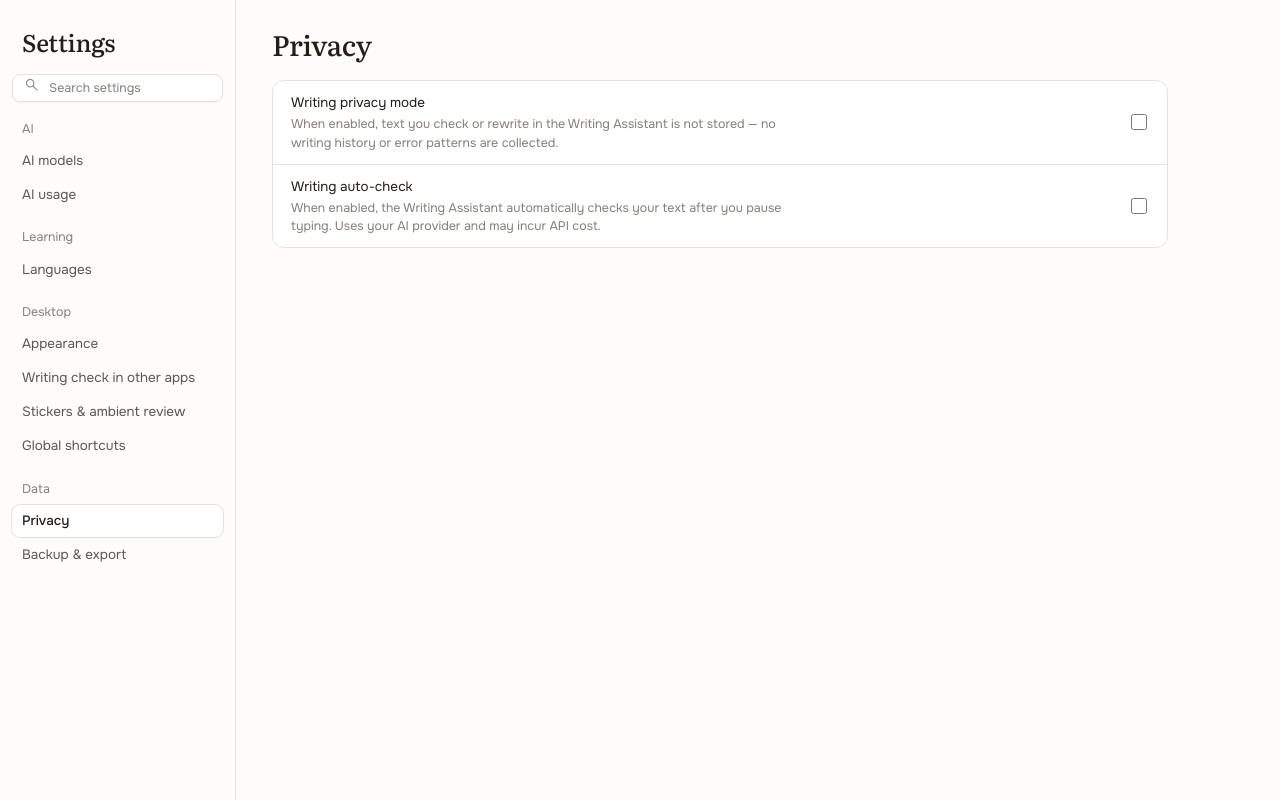
SettingsPage › saves a change as soon as it is made and says so
Click the checkbox labelled "Writing privacy mode".
click(1139, 122)  # box [1131, 114, 1147, 130]
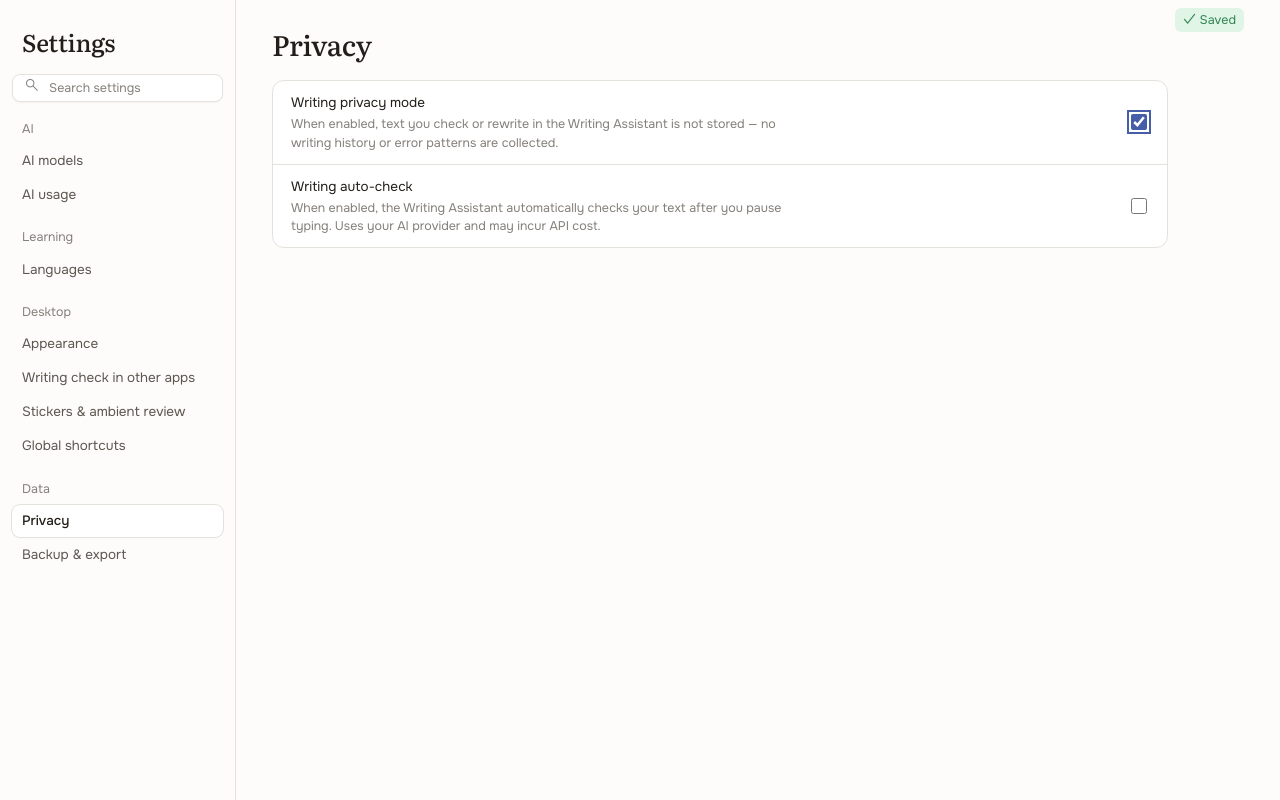
expect the text "✓ Saved" is shown: met, box [1175, 8, 1244, 32]
